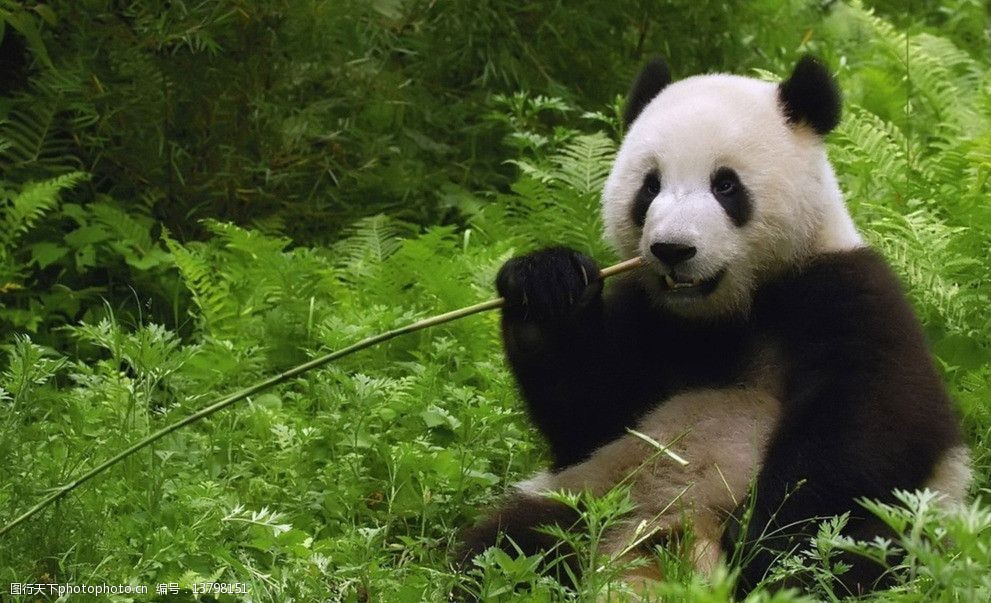panda: (361, 48, 966, 595)
